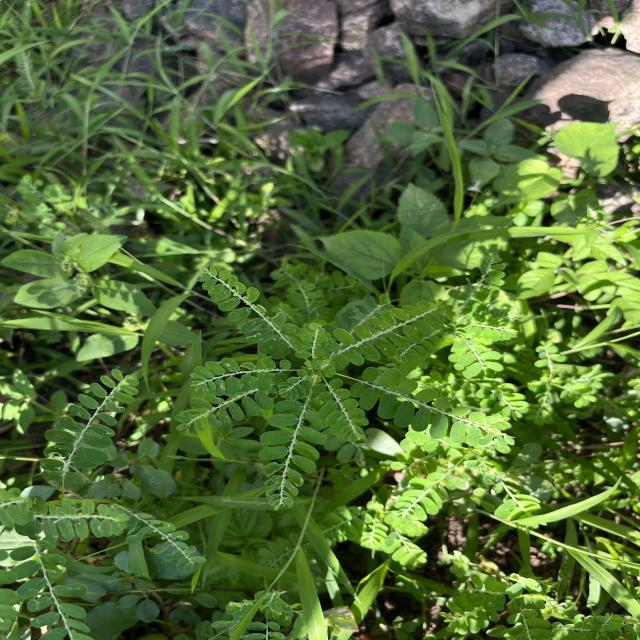Phyllanthus niruri: (33, 369, 140, 492), (358, 367, 514, 451), (198, 264, 300, 361), (254, 394, 331, 512), (328, 300, 456, 366), (39, 498, 132, 546), (314, 379, 368, 448), (186, 362, 288, 396), (296, 322, 332, 366)
